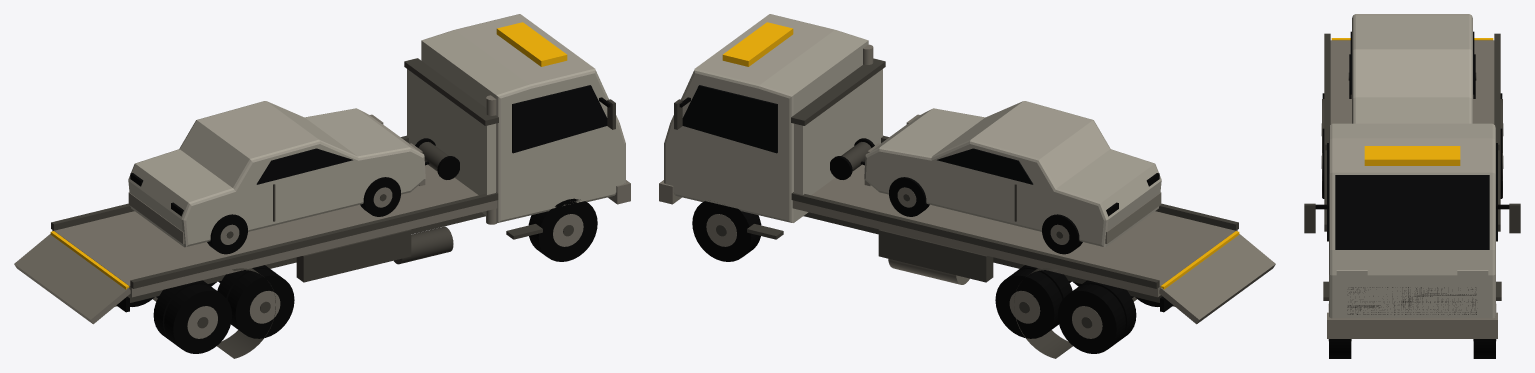
The model's file is rollout-flatbed.obj.
3 views of the same model, side by side, from view 1: azimuth 30°, elevation 25°; view 2: azimuth 150°, elevation 25°; view 3: azimuth 270°, elevation 25° (orthographic). The views are drawn at different scales.
Parts seen in each view (by area): view 1: car_body, cab_shell, deck_platform, headboard, rear_ramp_lip, cab_side_glass, deck_rail_l, deck_toolbox_l, wheel_rear_1_l_1_tire, wheel_rear_0_l_1_tire, wheel_front_l_tire, headboard_cap (+14 smaller); view 2: car_body, cab_shell, deck_platform, headboard, rear_ramp_lip, cab_side_glass, deck_rail_r, deck_toolbox_r, wheel_rear_1_r_1_tire, wheel_rear_0_r_1_tire, wheel_front_r_tire, headboard_cap (+14 smaller); view 3: cab_shell, car_body, windshield, bumper, deck_platform, beacon_bar, deck_rail_l, deck_rail_r, grille, wheel_front_l_tire, wheel_front_r_tire, headlight_l (+7 smaller).
Part boxes in pixels (bbox=[...]): car_body: bbox=[128, 101, 425, 247]; cab_shell: bbox=[421, 14, 625, 222]; deck_platform: bbox=[52, 164, 497, 297]; headboard: bbox=[407, 69, 495, 195]; rear_ramp_lip: bbox=[14, 234, 130, 324]; cab_side_glass: bbox=[512, 85, 607, 153]; deck_rail_l: bbox=[130, 192, 498, 288]; deck_toolbox_l: bbox=[296, 229, 411, 282]; wheel_rear_1_l_1_tire: bbox=[164, 284, 232, 353]; wheel_rear_0_l_1_tire: bbox=[227, 269, 294, 338]; wheel_front_l_tire: bbox=[528, 198, 597, 261]; headboard_cap: bbox=[404, 58, 498, 125]; car_body: bbox=[864, 101, 1161, 247]; cab_shell: bbox=[664, 14, 868, 222]; deck_platform: bbox=[792, 164, 1237, 297]; headboard: bbox=[794, 69, 882, 195]; rear_ramp_lip: bbox=[1159, 234, 1275, 324]; cab_side_glass: bbox=[682, 85, 777, 153]; deck_rail_r: bbox=[791, 192, 1159, 288]; deck_toolbox_r: bbox=[878, 229, 993, 282]; wheel_rear_1_r_1_tire: bbox=[1057, 284, 1125, 353]; wheel_rear_0_r_1_tire: bbox=[995, 269, 1062, 338]; wheel_front_r_tire: bbox=[692, 201, 761, 261]; headboard_cap: bbox=[791, 58, 885, 125]; cab_shell: bbox=[1329, 123, 1495, 318]; car_body: bbox=[1352, 14, 1472, 123]; windshield: bbox=[1335, 175, 1489, 249]; bumper: bbox=[1327, 312, 1497, 338]; deck_platform: bbox=[1327, 40, 1497, 241]; beacon_bar: bbox=[1364, 146, 1460, 165]; deck_rail_l: bbox=[1324, 33, 1330, 231]; deck_rail_r: bbox=[1494, 33, 1500, 231]; grille: bbox=[1347, 287, 1476, 314]; wheel_front_l_tire: bbox=[1329, 339, 1351, 358]; wheel_front_r_tire: bbox=[1473, 339, 1495, 358]; headlight_l: bbox=[1336, 270, 1367, 283].
Size of the model in its own units: 9.5 by 3.43 by 3.08.
